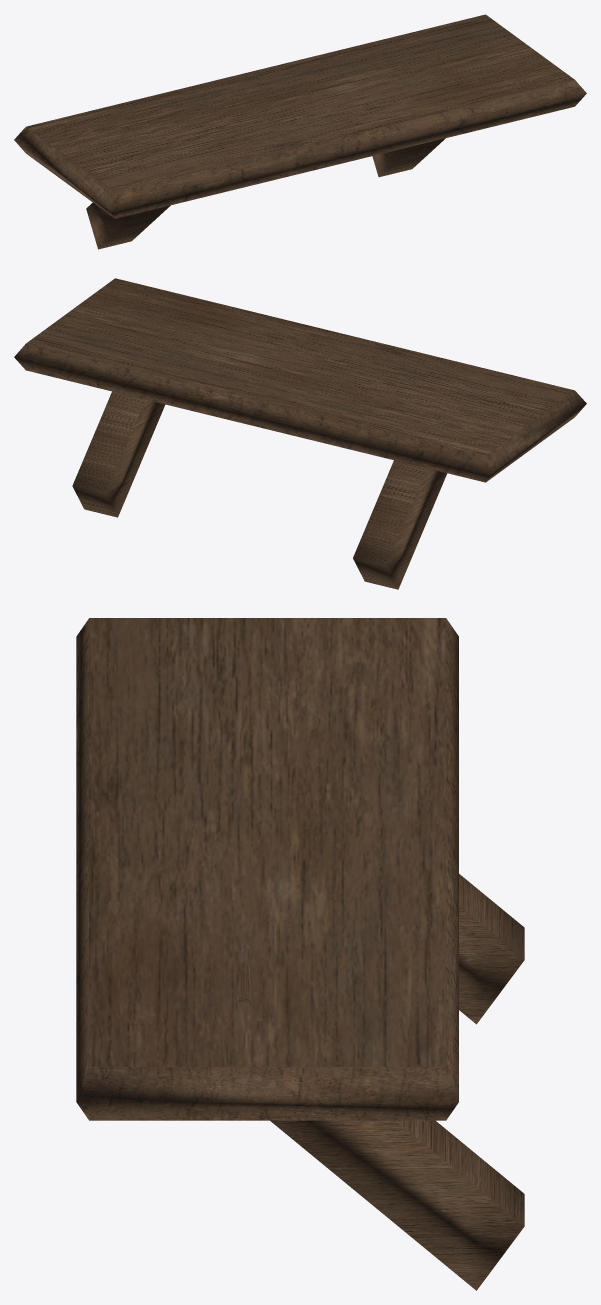
File: raft.fbx
3 renders of one model, top to bottom at view 1: azimuth 30°, elevation 25°; view 2: azimuth 150°, elevation 25°; view 3: azimuth 270°, elevation 25°, orthographic. The views are drawn at different scales.
Visible parts, largest first — view 1: Cube.009; view 2: Cube.009; view 3: Cube.009.
Part boxes in pixels (<box>): Cube.009: <box>14,14,586,249</box>; Cube.009: <box>14,278,586,589</box>; Cube.009: <box>76,618,524,1290</box>.
Size of the model in its own units: 93.72 by 28.49 by 38.08.
